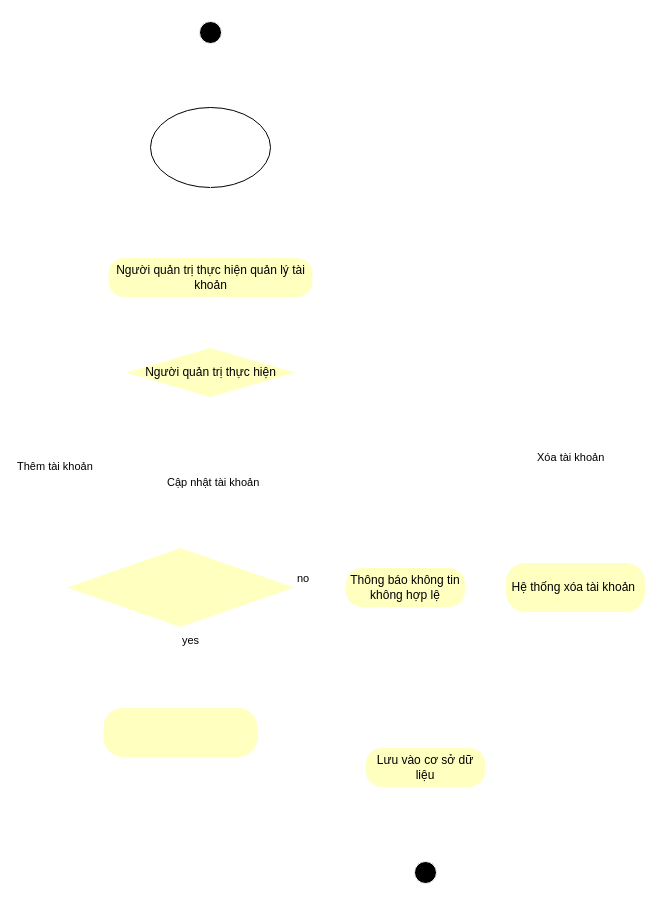
Image size: 663x905. Some labels were removed from this diagram. The box of each missing label's shape, as (x1, y1, x2, y2) in pixels:
Thông tin tài khoản có hợp lệ không ?: (64, 546, 296, 628)
Thực hiện thêm hoặc cập nhật tài khoản: (102, 706, 258, 758)
Đăng Nhập: (150, 106, 270, 188)
